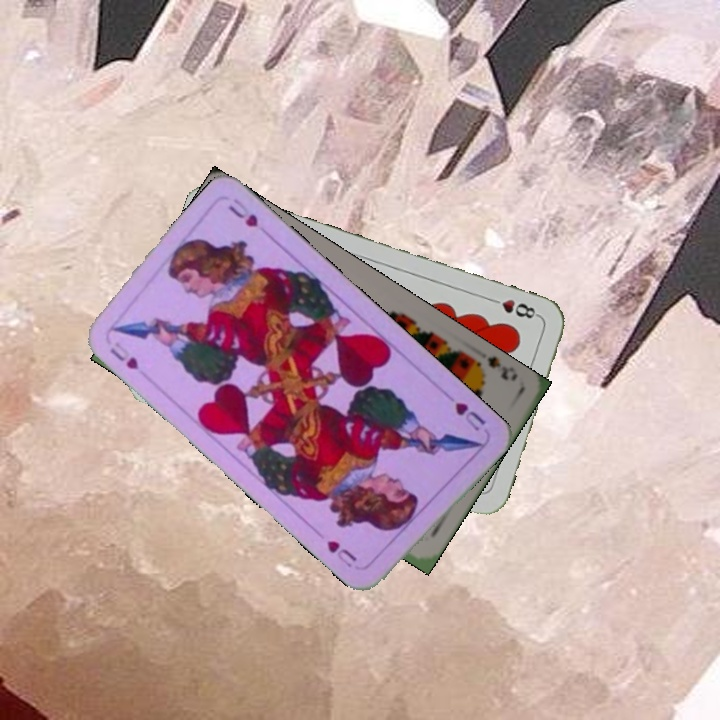H8: (484, 294, 542, 322)
HU: (450, 398, 489, 434), (105, 343, 142, 373)
S9: (466, 352, 520, 384)
